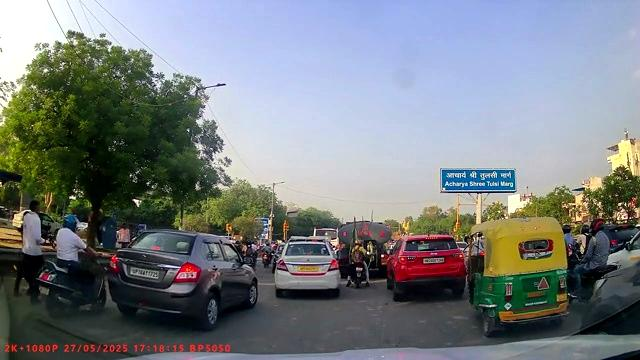motorcycle_with_helmet: (36, 211, 108, 321)
